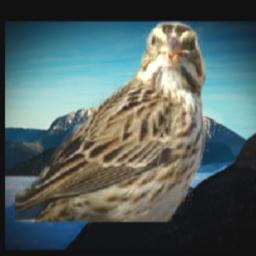Sparrow: (14, 22, 208, 223)
